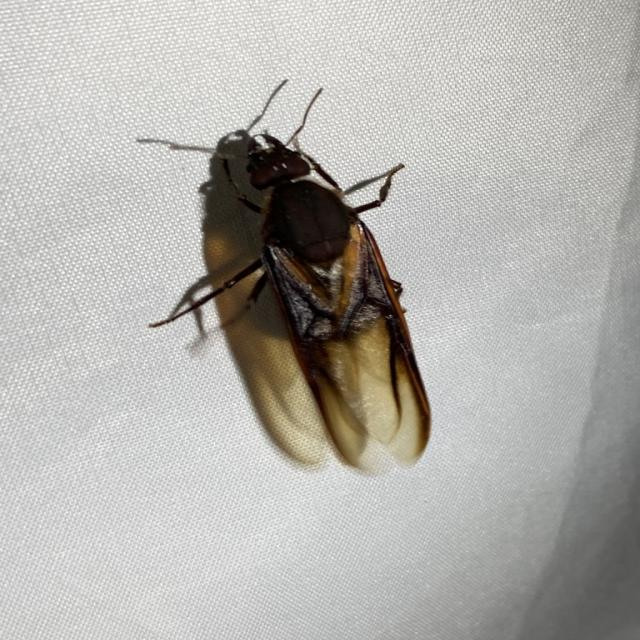Alive-Female-Alate: (148, 87, 433, 476)
